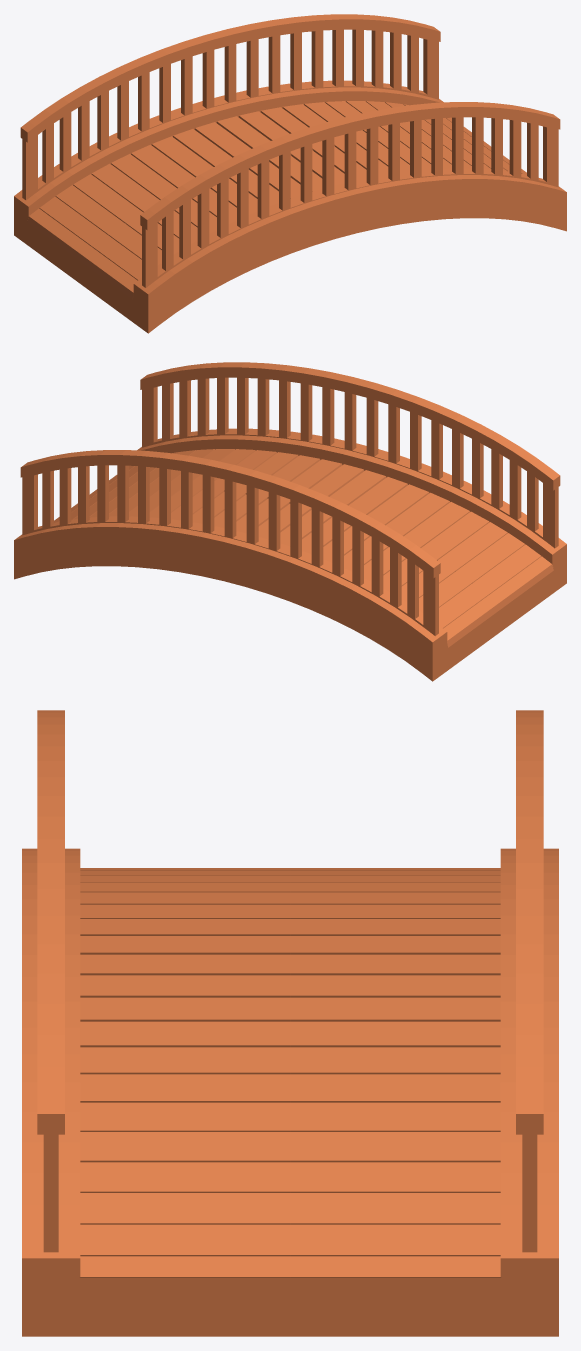
File: puente.fbx
3 renders of one model, top to bottom at view 1: azimuth 30°, elevation 25°; view 2: azimuth 150°, elevation 25°; view 3: azimuth 270°, elevation 25°, orthographic. The views are drawn at different scales.
Visible parts, largest first — view 1: puente; view 2: puente; view 3: puente.
Boxes of the visible parts, <box> form: puente: <box>14,14,566,333</box>; puente: <box>14,362,566,681</box>; puente: <box>22,710,558,1336</box>.
Bounding box in the file's own units: 1435 × 516 × 795.
